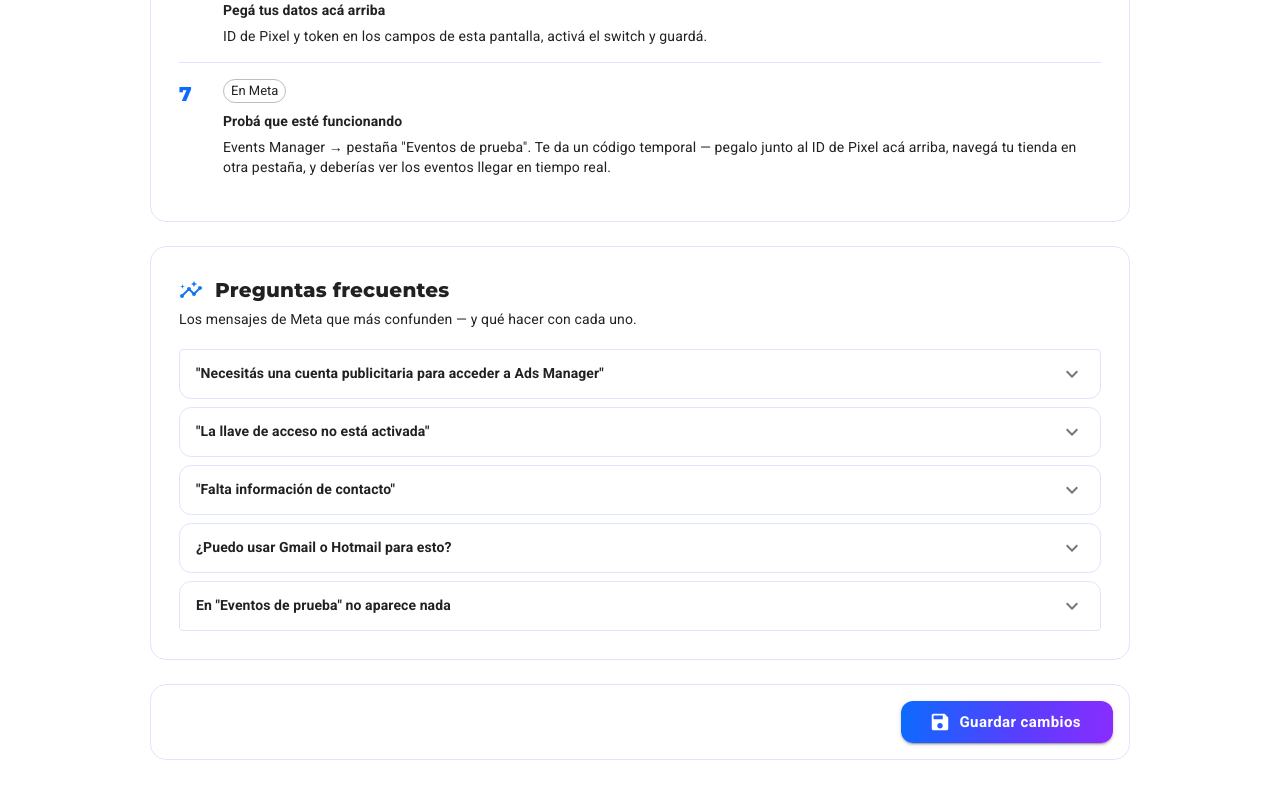
it: Meta Pixel · guía y preguntas frecuentes › hay cinco preguntas frecuentes y cada una se despliega
(page scrolled)
Click the button "\"La llave de acceso no está activada\"" at (313,431), box [180, 408, 1100, 456]
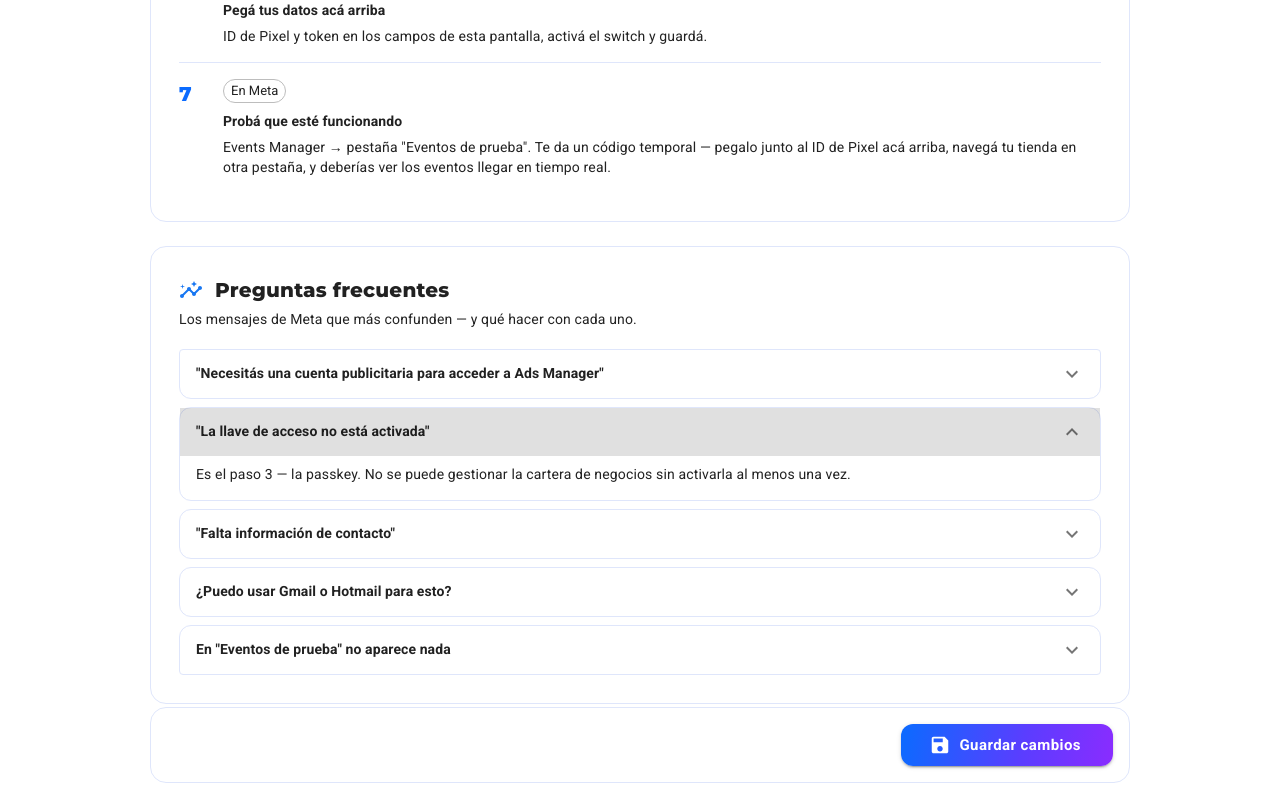
Expected: the text "Es el paso 3 — la passkey" is shown, [196, 466, 851, 482]
